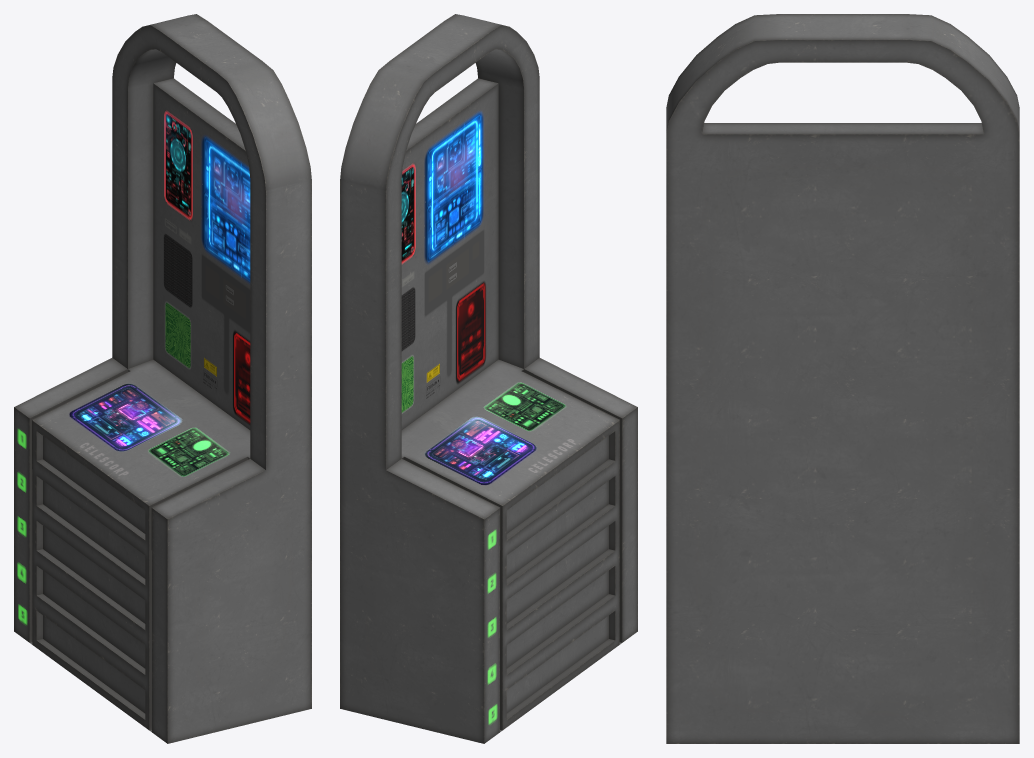
Rendered from Module Server.gltf.
The picture shows the model from 3 angles, left to right: view 1: azimuth 30°, elevation 25°; view 2: azimuth 150°, elevation 25°; view 3: azimuth 270°, elevation 25°; orthographic projection. The views are drawn at different scales.
Parts seen in each view (by area): view 1: SM_Server.001_0; view 2: SM_Server.001_0; view 3: SM_Server.001_0.
Boxes of the visible parts, x1=… form: SM_Server.001_0: x1=14, y1=14, x2=311, y2=743; SM_Server.001_0: x1=340, y1=14, x2=637, y2=743; SM_Server.001_0: x1=666, y1=14, x2=1019, y2=743.
Bounding box in the file's own units: 0.728 × 2.95 × 1.34.
1 material, 1 textured.
